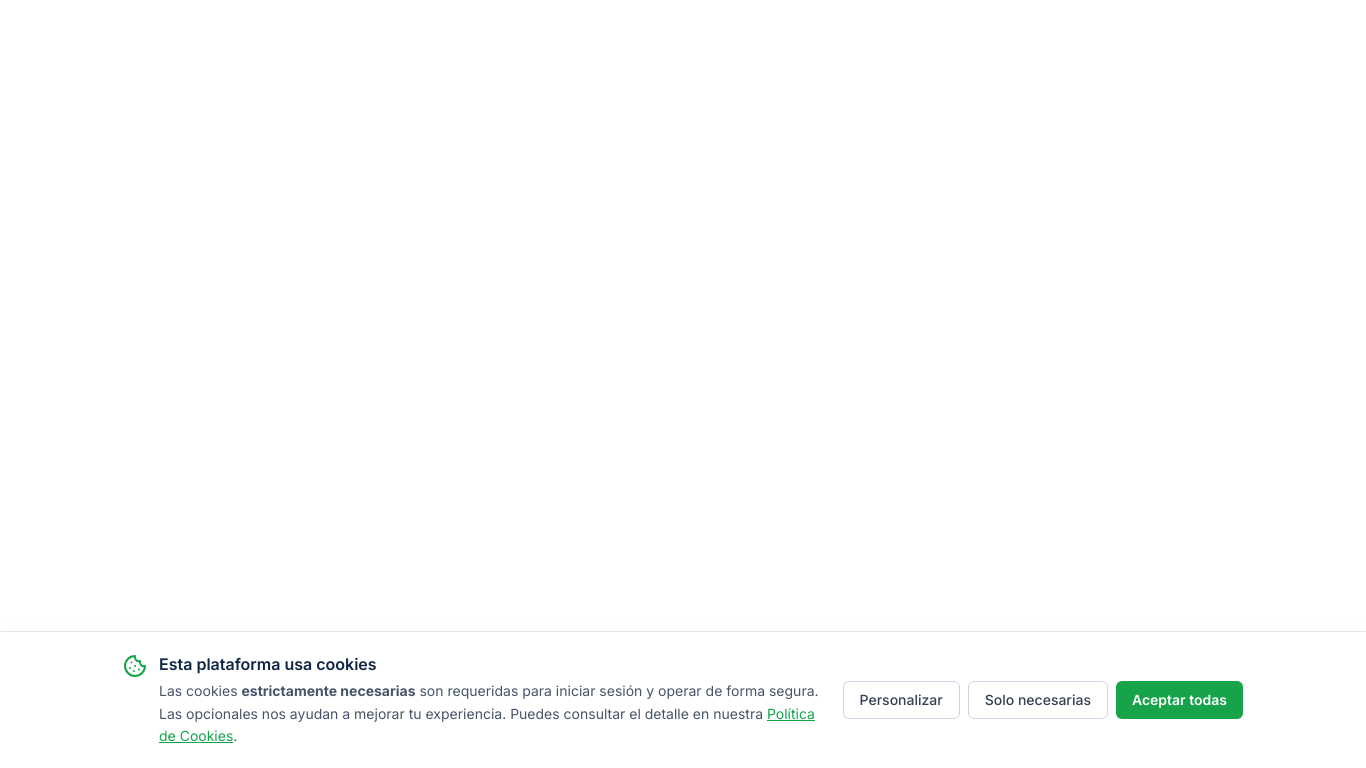
Test case: CookieConsentBanner › botón "Cerrar panel" colapsa de vuelta a vista compacta
The width and height of the screenshot is (1366, 768).
Expected: the dialog is shown, [0,631,1365,767]
Click the button "Personalizar" at (901, 700), box [843,681,960,719]
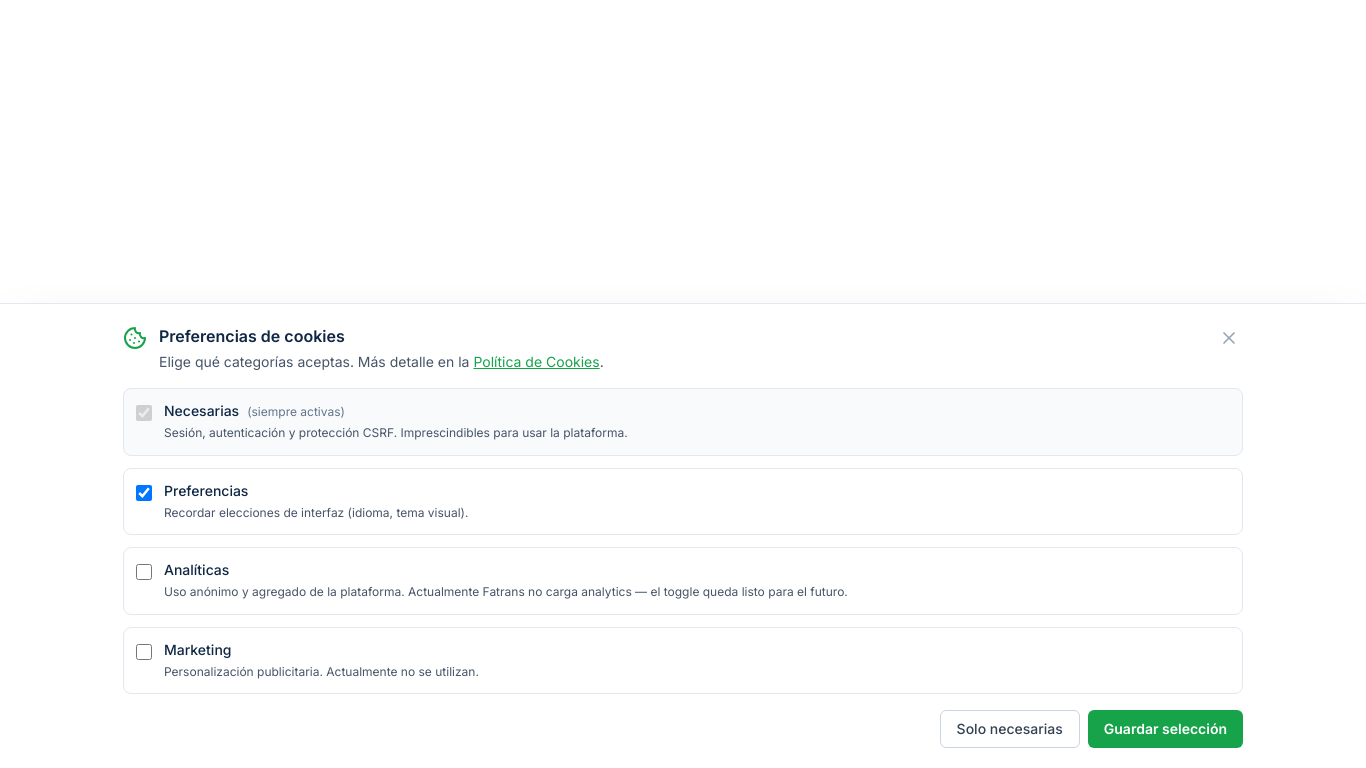
Expected: the heading "Preferencias de cookies" is shown, [159,326,345,346]
Click the button named "cerrar panel" at (1229, 338), box [1215,324,1243,352]
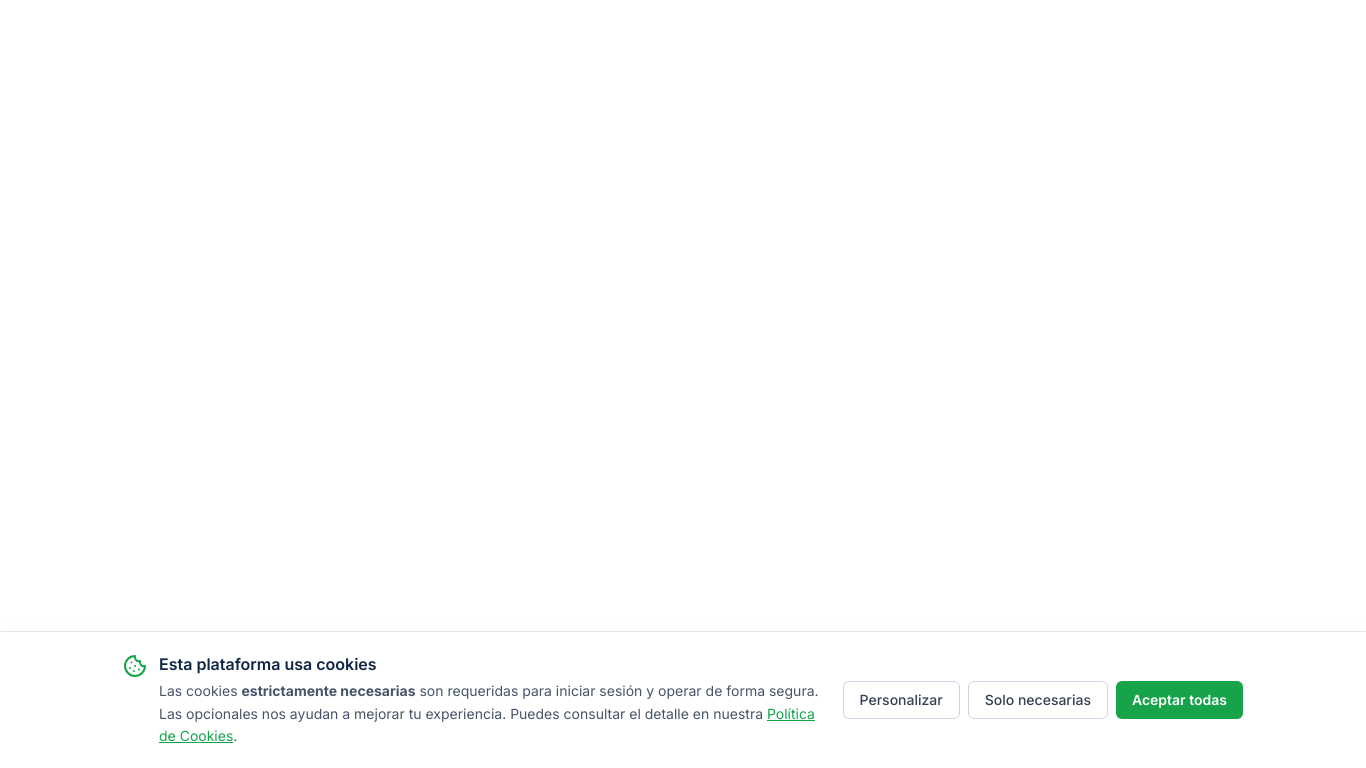
Expected: the heading "Preferencias de cookies" is gone
Expected: the heading "Esta plataforma usa cookies" is shown, [159,654,377,674]
